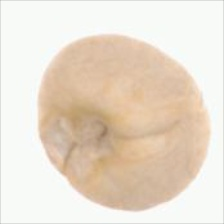L3: (66, 117, 111, 150)
L4: (38, 33, 211, 211)
